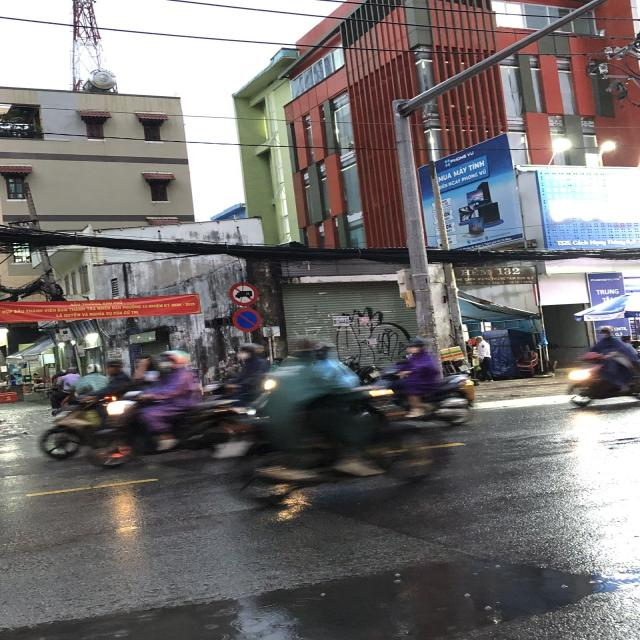Bien bao cam do xe: (230, 306, 264, 334)
Bien bao cam xe oto tai: (226, 280, 260, 306)
